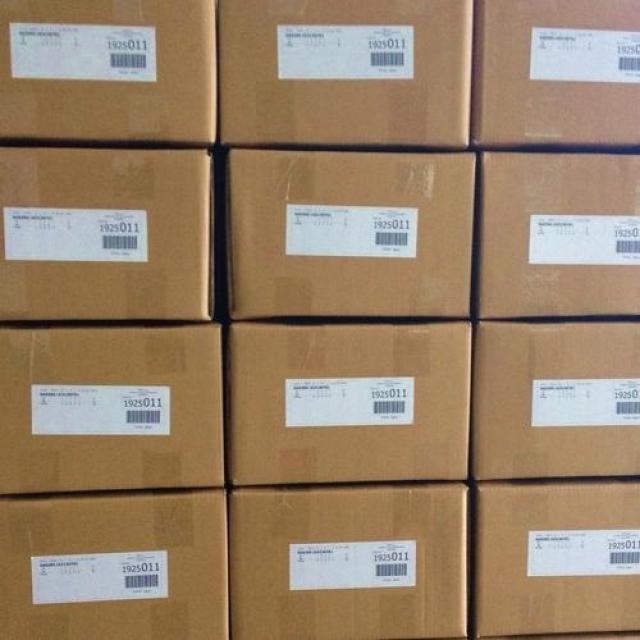box: (220, 147, 478, 320), (227, 320, 470, 485), (0, 324, 224, 497), (218, 1, 476, 149), (0, 150, 216, 326), (225, 483, 469, 638), (0, 488, 230, 639), (0, 1, 218, 145), (472, 319, 639, 481), (478, 151, 639, 319), (470, 480, 639, 636), (473, 1, 639, 152)
